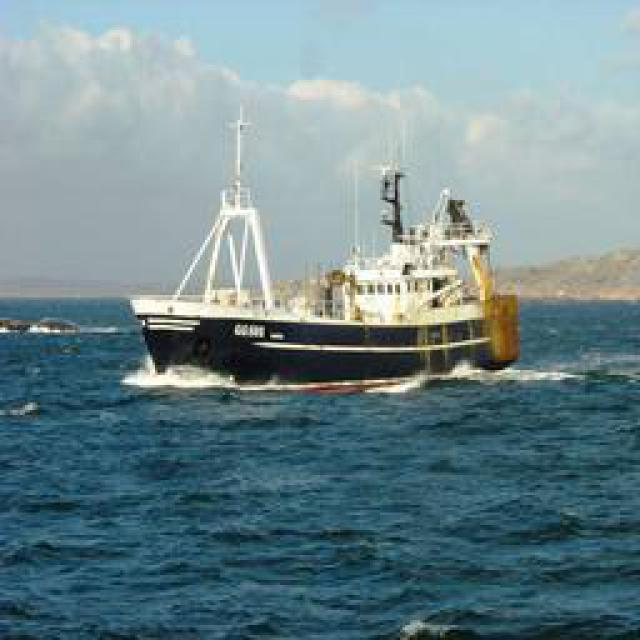Ship: (131, 99, 521, 389)
